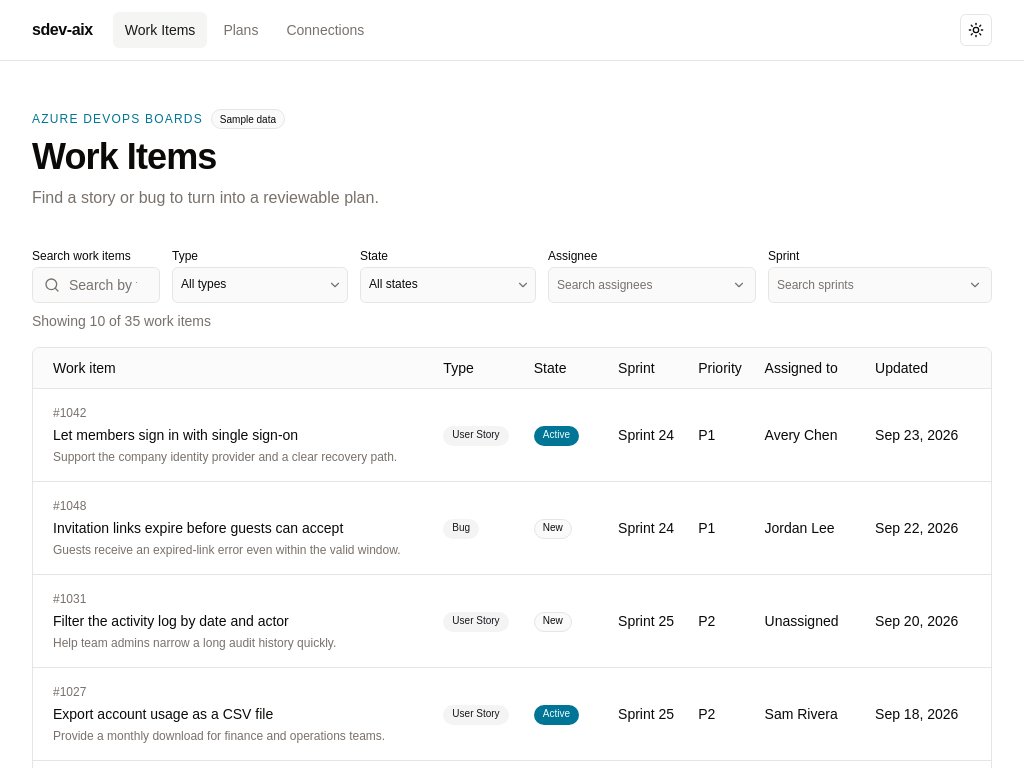
Test: work-item browser › keeps all as a search term instead of clearing it
Check: the text "Showing 10 of 35 work items" is shown, box [32,313,211,329]
Type "all" into the search field labelled "Search work items" at (96, 285), box [32,267,160,303]
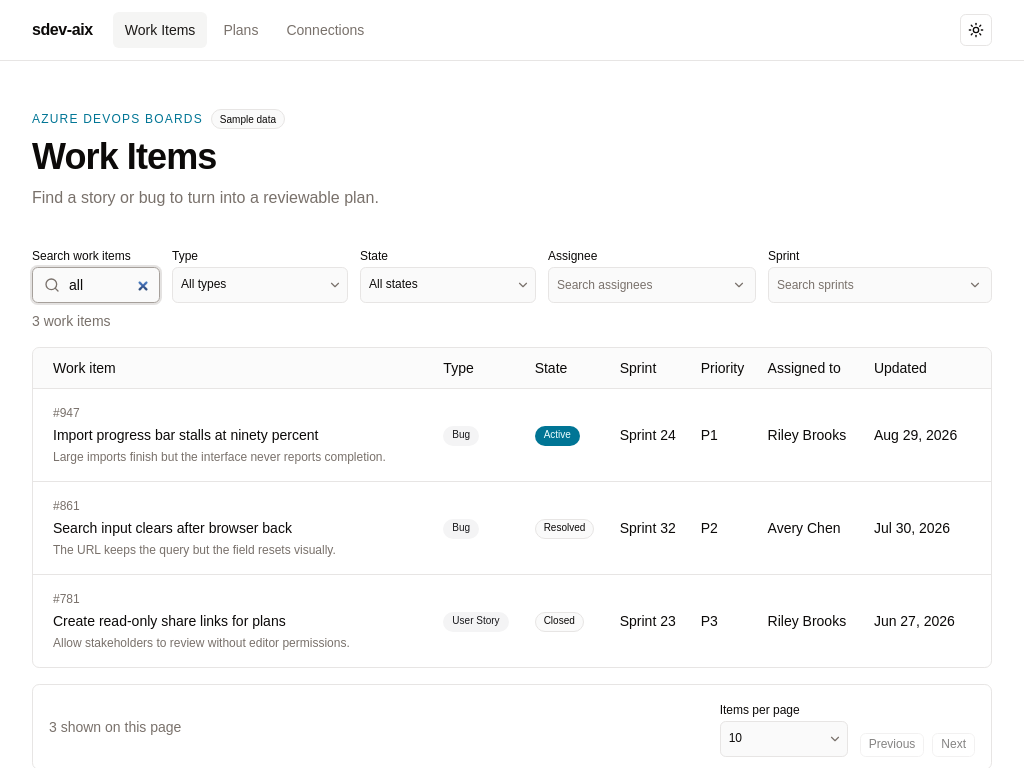
Check: the text "3 work items" is shown, box [32,313,111,329]
Check: the table shows "Import progress bar stalls at ninety percent", box [53,424,427,444]
